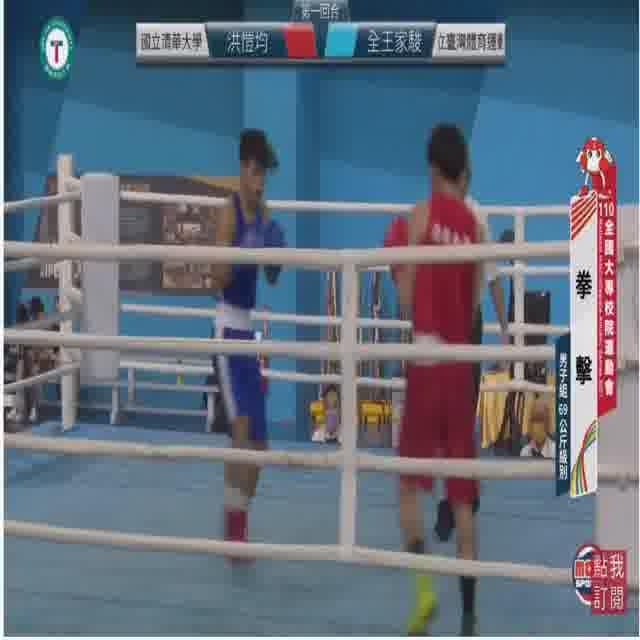blue-player: (207, 126, 287, 566)
red-player: (379, 124, 483, 637)
referee: (422, 142, 517, 545)
